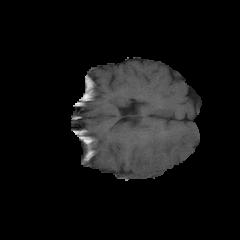glioma: (130, 129, 196, 173)
